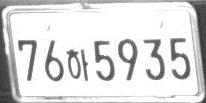3: (142, 37, 166, 80)
5: (168, 37, 191, 80), (93, 39, 115, 81)
6: (44, 39, 64, 81)
7: (17, 38, 38, 82)
9: (117, 38, 138, 81)
하: (64, 47, 89, 82)
